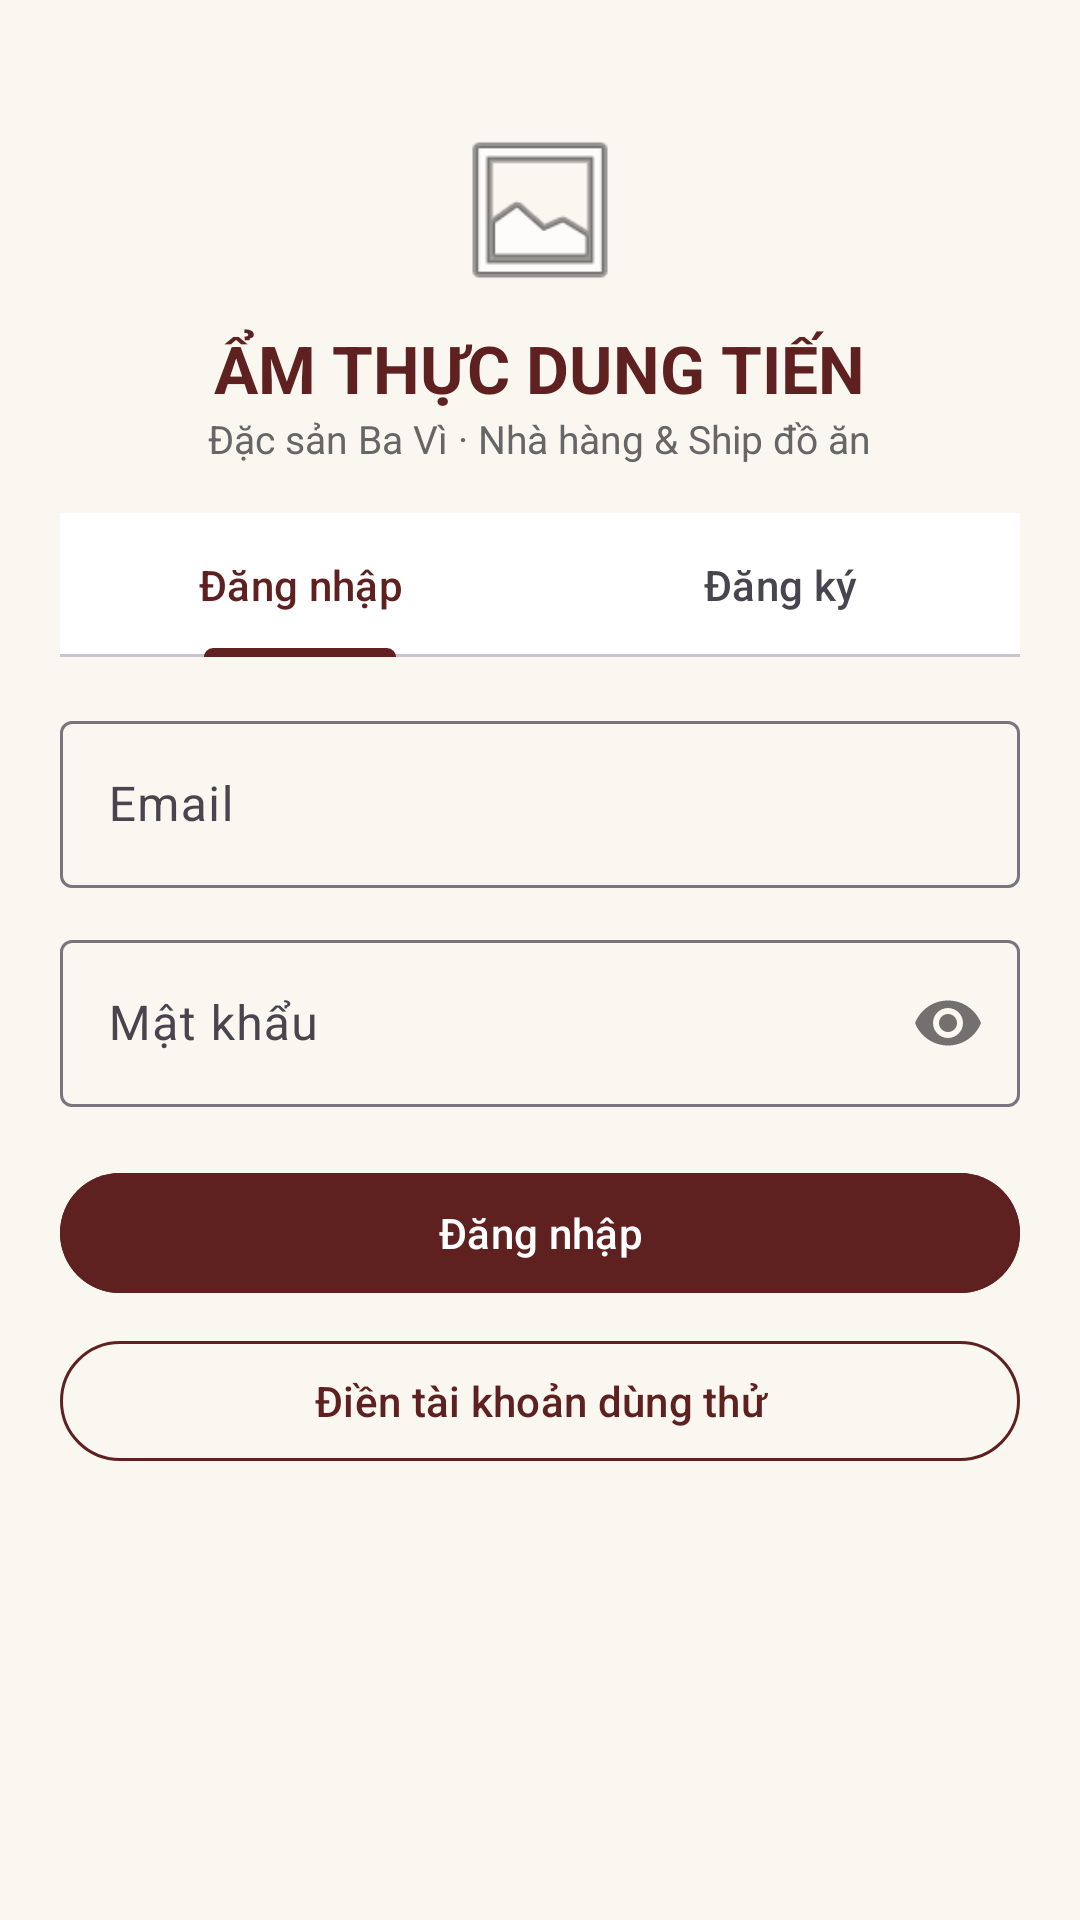

Locate icon controls on the screen. Image size 1080 x 1920, boxes as rect(x1, y1, x2, y2).
gallery: rect(472, 142, 608, 278)
